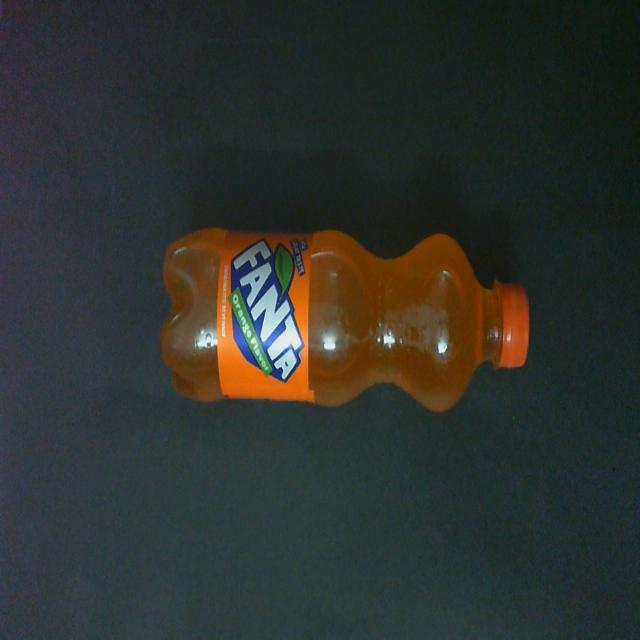non-defect: (161, 222, 530, 417)
